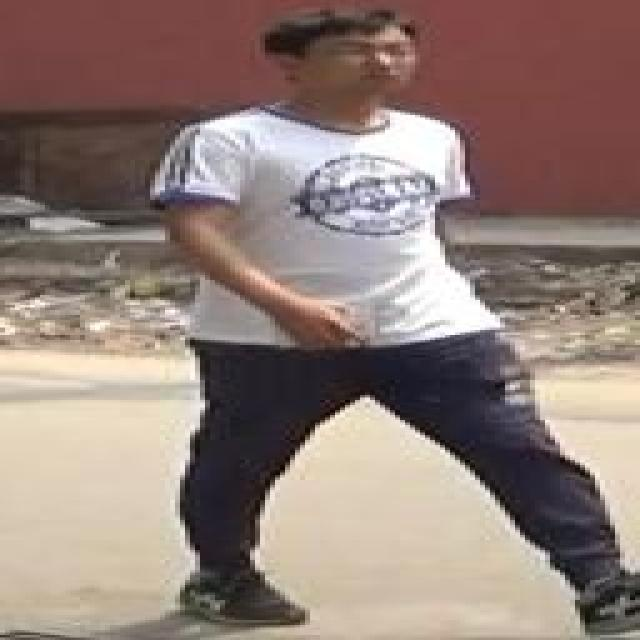adult: (136, 5, 640, 640)
